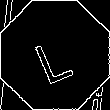L_NW: (31, 26, 79, 84)
